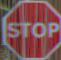Stop: (8, 6, 56, 50)
